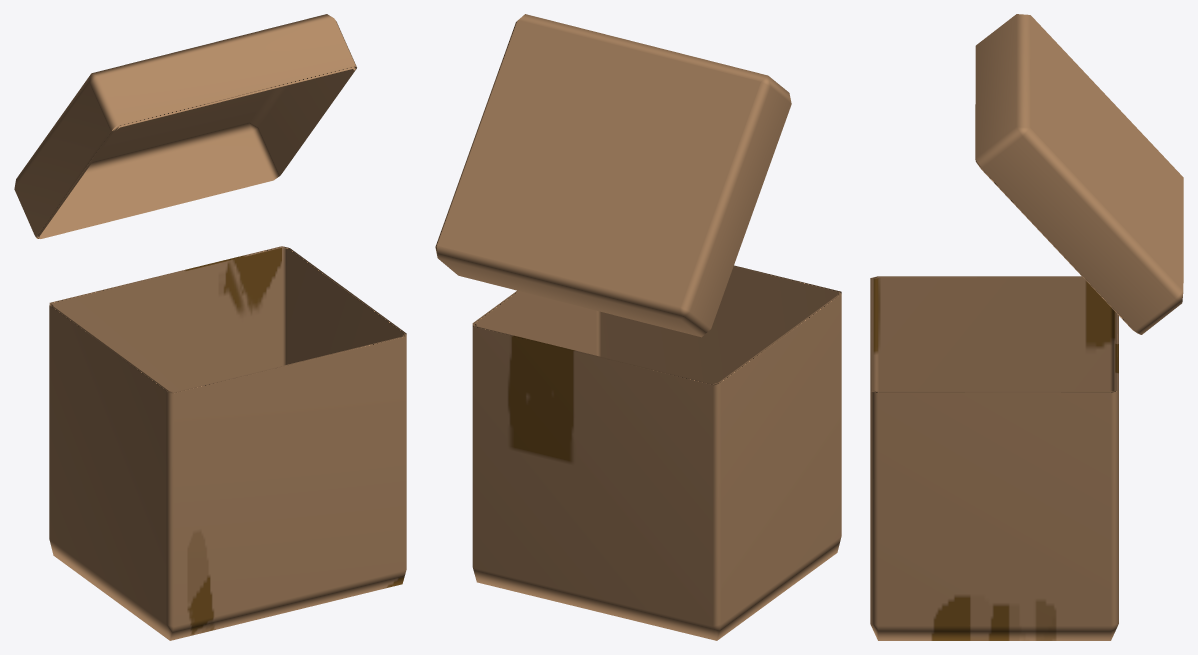
The model's file is BOX_LID_OPEN_ANIM.fbx.
3 renders of one model, left to right at view 1: azimuth 30°, elevation 25°; view 2: azimuth 150°, elevation 25°; view 3: azimuth 270°, elevation 25°, orthographic. The views are drawn at different scales.
Visible parts, largest first — view 1: BOX, LID; view 2: BOX, LID; view 3: BOX, LID.
Part boxes in pixels (left/top/right/bottom): BOX: left=49, top=246, right=406, bottom=640; LID: left=14, top=14, right=356, bottom=238; BOX: left=472, top=265, right=841, bottom=640; LID: left=435, top=14, right=791, bottom=337; BOX: left=870, top=276, right=1118, bottom=640; LID: left=975, top=14, right=1183, bottom=334.
Bounding box in the file's own units: 20.96 × 41.51 × 22.93.
